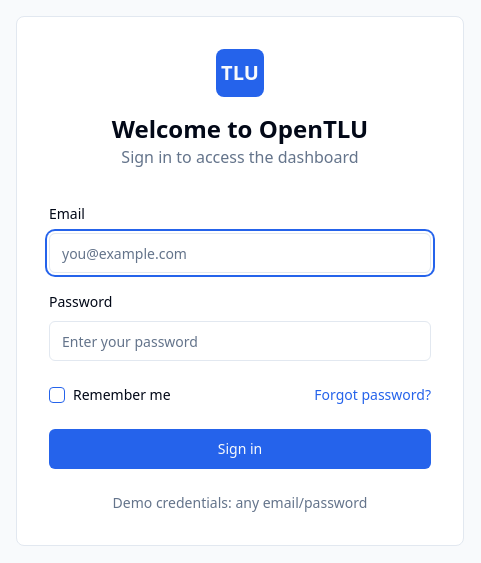
it: Login › Form Submission › should show loading state during authentication
Type "test@example.com" into the field with placeholder "you@example.com".
click(240, 253); type("test@example.com")  # box [49,233,431,273]
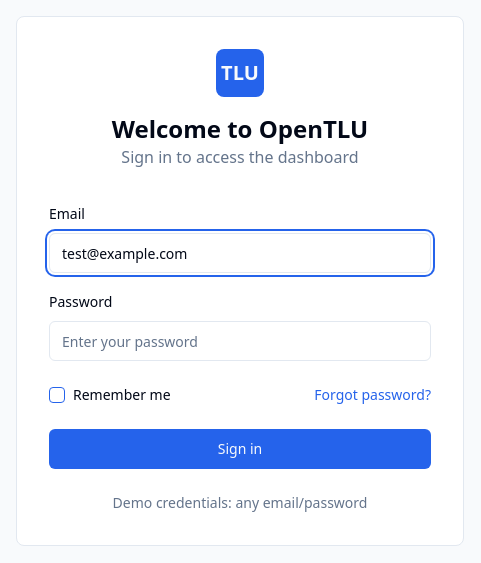
Type "password123" into the password field with placeholder "Enter your password".
click(240, 341); type("password123")  # box [49,321,431,361]
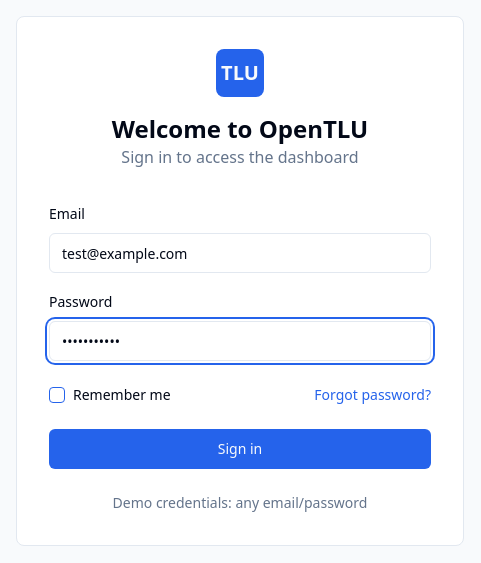
Click the button "Sign in".
click(240, 449)  # box [49,429,431,469]
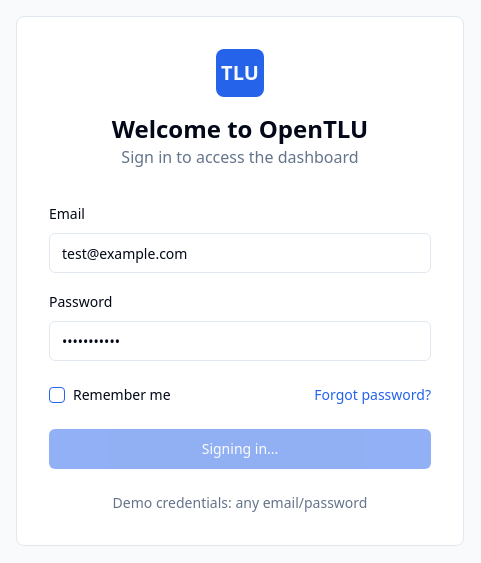
Now the button named "sign in" is disabled, box [49,429,431,469]
